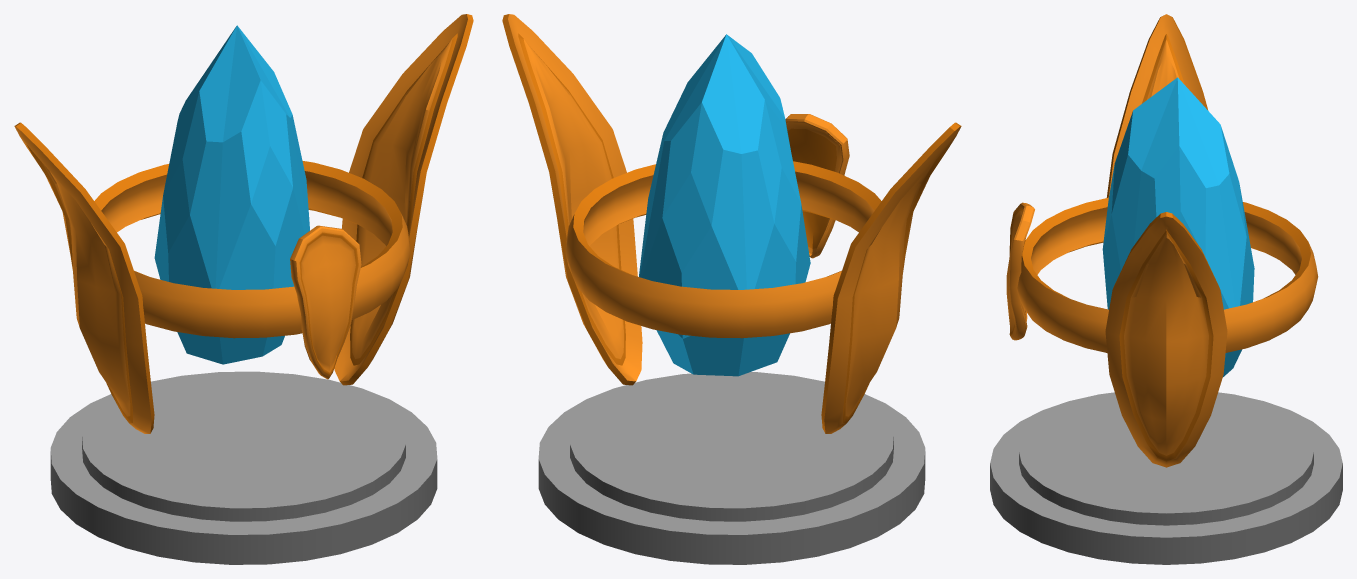
The model's file is Ice Tower Lv2.fbx.
3 views of the same model, side by side, from view 1: azimuth 30°, elevation 25°; view 2: azimuth 150°, elevation 25°; view 3: azimuth 270°, elevation 25° (orthographic). The views are drawn at different scales.
Visible parts, largest first — view 1: Ice Tower Lv2, Ring Lv2, Crystal lv2; view 2: Ice Tower Lv2, Ring Lv2, Crystal lv2; view 3: Ice Tower Lv2, Ring Lv2, Crystal lv2.
Boxes of the visible parts, x1=… form: Ice Tower Lv2: x1=50, y1=371, x2=437, y2=564; Ring Lv2: x1=14, y1=14, x2=473, y2=433; Crystal lv2: x1=154, y1=25, x2=309, y2=364; Ice Tower Lv2: x1=538, y1=372, x2=925, y2=564; Ring Lv2: x1=502, y1=14, x2=961, y2=433; Crystal lv2: x1=639, y1=34, x2=810, y2=376; Ice Tower Lv2: x1=990, y1=392, x2=1342, y2=564; Ring Lv2: x1=1006, y1=14, x2=1318, y2=467; Crystal lv2: x1=1102, y1=77, x2=1254, y2=376.
Size of the model in its own units: 371 by 353 by 273.
